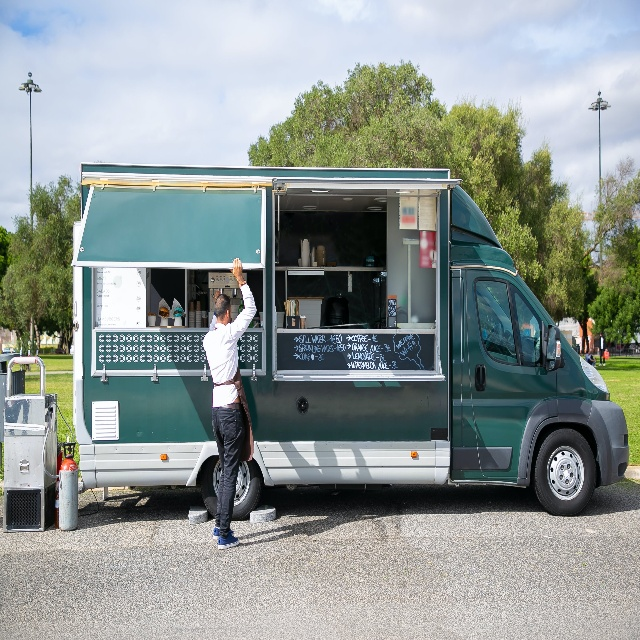Sin_guantes: (230, 257, 242, 280), (214, 289, 221, 303)
